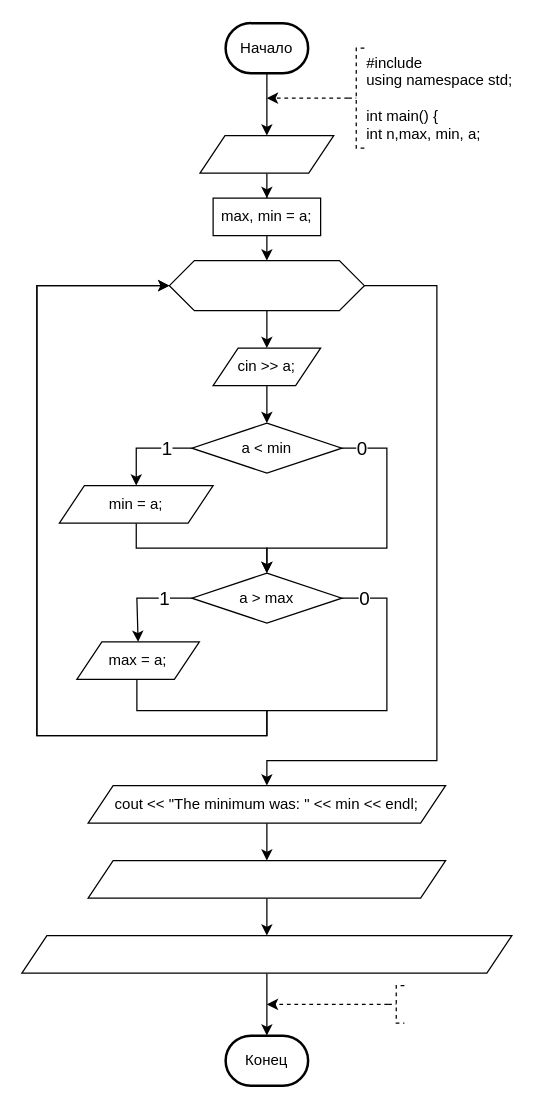
This 535x1108 diagram has some shape labels left out. Here are the shapes that lost their labels. From the top down, the box of each, then its label:
(199, 134, 334, 173): cin >> n >> a;
(168, 259, 364, 311): int i = 0; i < n - 1; ++i
(87, 859, 446, 898): cout << "The maximum was: " << max << endl;
(21, 934, 512, 973): cout << "Summ of max and min elements: " << max + min << endl;
(387, 984, 404, 1023): return 0;
